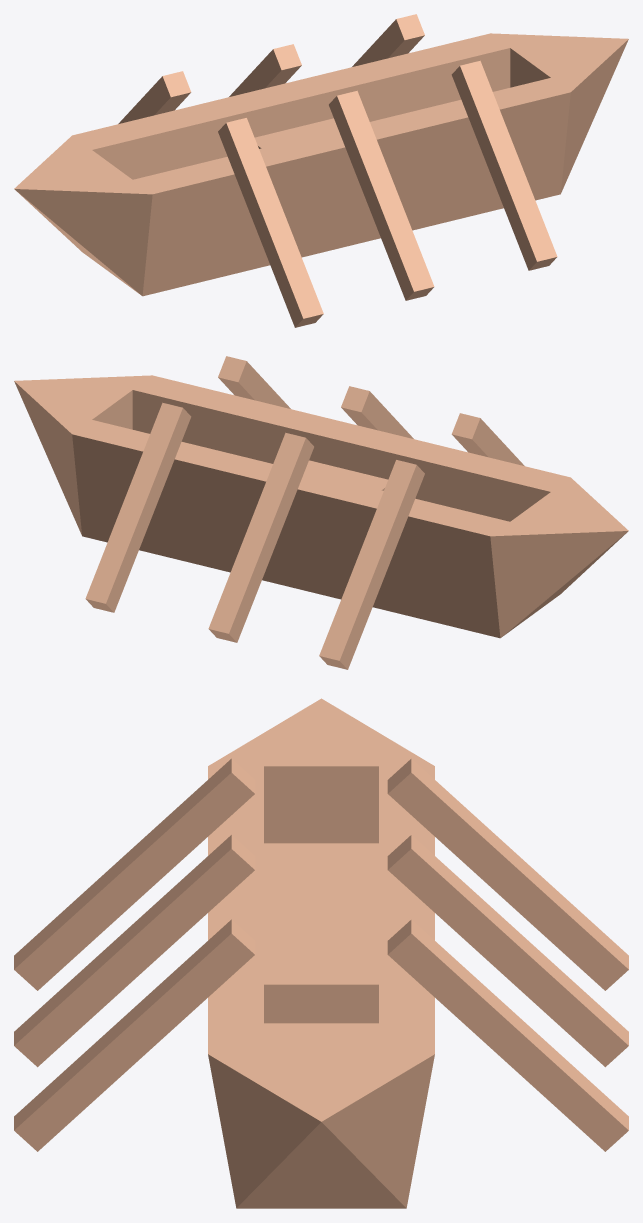
Rendered from unit_boat.glb.
The picture shows the model from 3 angles, top to bottom: view 1: azimuth 30°, elevation 25°; view 2: azimuth 150°, elevation 25°; view 3: azimuth 270°, elevation 25°; orthographic projection. The views are drawn at different scales.
Parts seen in each view (by area): view 1: unit_boat, Group (×6); view 2: unit_boat, Group (×6); view 3: unit_boat, Group (×6).
Boxes of the visible parts, bbox=[...] form: unit_boat: bbox=[14, 33, 628, 296]; Group (×6): bbox=[118, 14, 557, 327]; unit_boat: bbox=[14, 375, 628, 638]; Group (×6): bbox=[85, 356, 524, 669]; unit_boat: bbox=[208, 698, 434, 1208]; Group (×6): bbox=[14, 758, 628, 1151].
Size of the model in its own units: 0.645 by 0.1553 by 0.3959.
